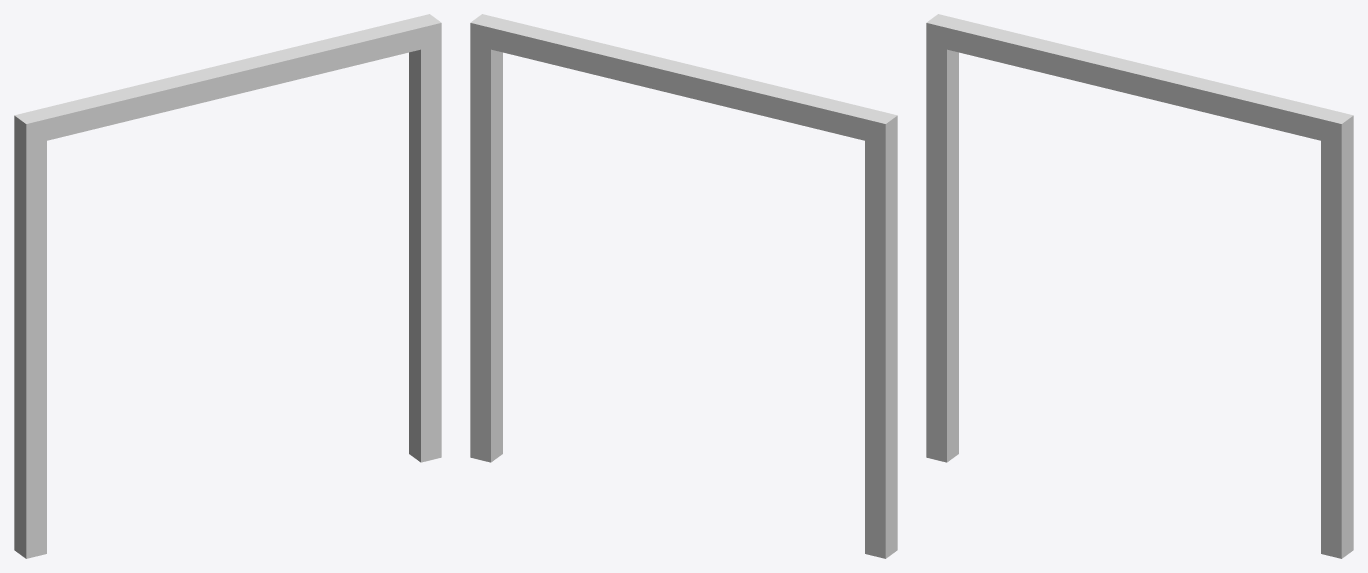
The model's file is PlainGarageFrame.fbx.
The picture shows the model from 3 angles, left to right: view 1: azimuth 30°, elevation 25°; view 2: azimuth 150°, elevation 25°; view 3: azimuth 330°, elevation 25°; orthographic projection.
Visible parts, largest first — view 1: PlainGarageFrame; view 2: PlainGarageFrame; view 3: PlainGarageFrame.
Part boxes in pixels (box(x1,y1,x2,y2)): PlainGarageFrame: box(14, 14, 441, 558); PlainGarageFrame: box(470, 14, 897, 558); PlainGarageFrame: box(926, 14, 1353, 558).
Bounding box in the file's own units: 200 × 200 × 10.
